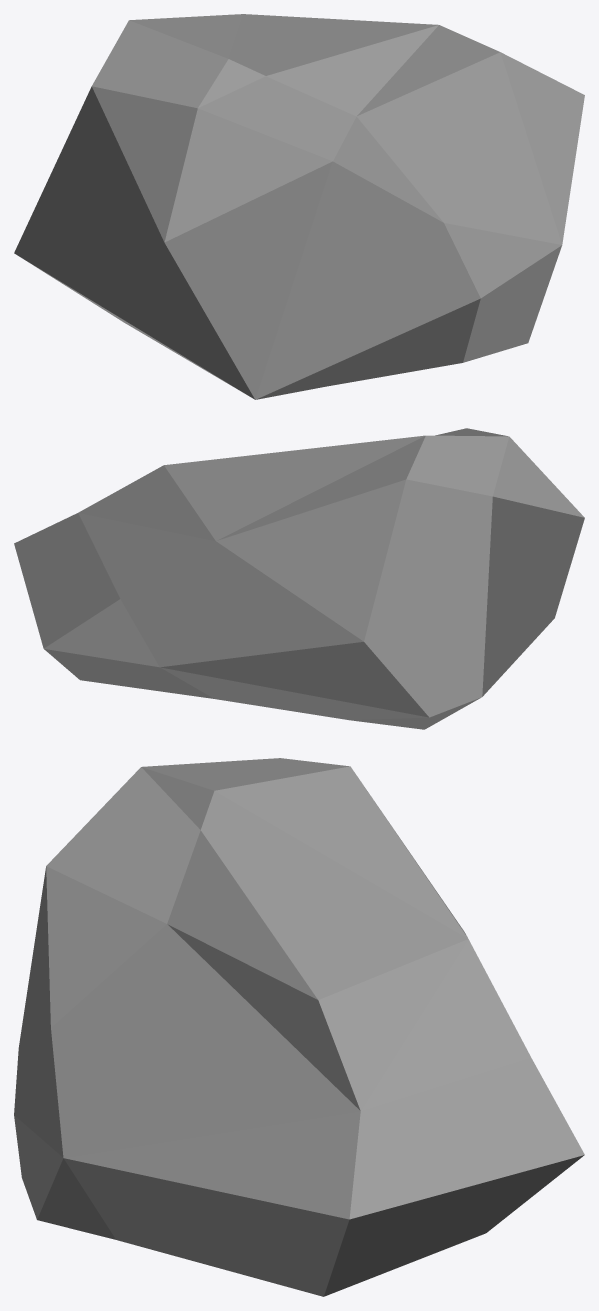
Rendered from Rock_01.fbx.
The picture shows the model from 3 angles, top to bottom: view 1: azimuth 30°, elevation 25°; view 2: azimuth 150°, elevation 25°; view 3: azimuth 270°, elevation 25°; orthographic projection. The views are drawn at different scales.
Parts seen in each view (by area): view 1: Rock1; view 2: Rock1; view 3: Rock1.
Boxes of the visible parts, x1,y1,x2,y2 form: Rock1: (14,14,584,399); Rock1: (14,428,584,729); Rock1: (14,758,584,1296).
Bounding box in the file's own units: 1.35 × 0.7344 × 1.08.
Materials: 1 (1 with a texture image).
